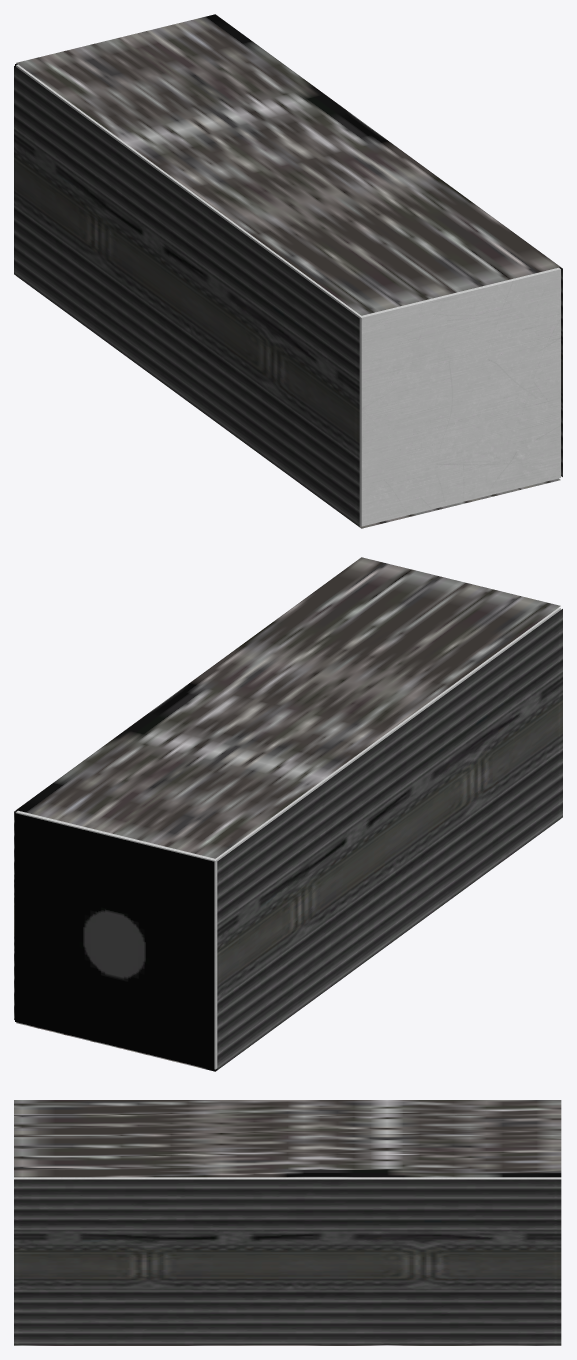
The model's file is treads.obj.
3 renders of one model, top to bottom at view 1: azimuth 30°, elevation 25°; view 2: azimuth 150°, elevation 25°; view 3: azimuth 270°, elevation 25°, orthographic. The views are drawn at different scales.
Visible parts, largest first — view 1: Treads3, Treads5, Treads1, Treads6; view 2: Treads3, Treads5, Treads2, Treads1; view 3: Treads4, Treads5, Treads1, Treads6.
Boxes of the visible parts, box(x1,y1,x2,y2) form: Treads3: box(14, 66, 359, 526); Treads5: box(16, 14, 560, 315); Treads1: box(16, 64, 560, 526); Treads6: box(21, 279, 560, 528); Treads3: box(217, 609, 562, 1069); Treads5: box(16, 557, 560, 858); Treads2: box(15, 813, 214, 1070); Treads1: box(16, 607, 560, 1069); Treads4: box(14, 1179, 561, 1344); Treads5: box(14, 1100, 561, 1177); Treads1: box(14, 1177, 561, 1179); Treads6: box(14, 1345, 561, 1345).
Size of the model in its own units: 2.04 by 2.04 by 6.02.
4 materials, 4 textured.
